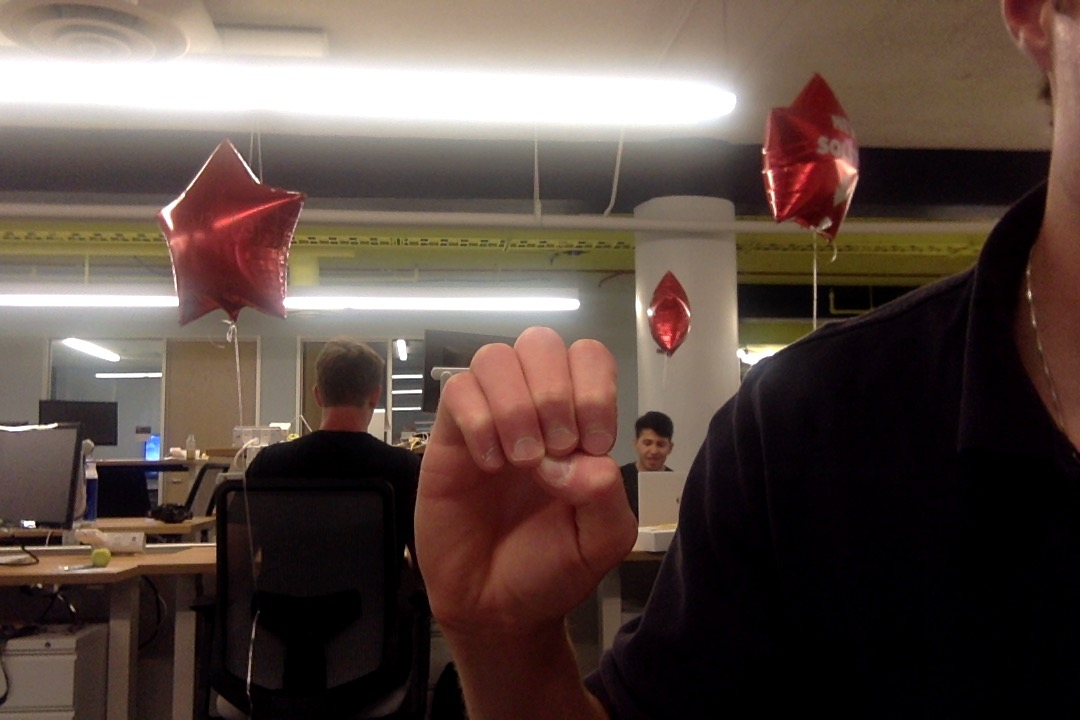e: (405, 318, 645, 643)
